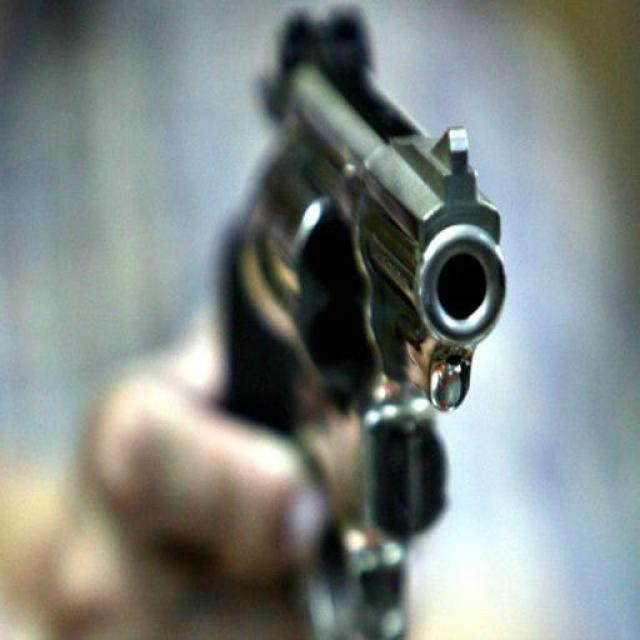pistol: (225, 8, 507, 629)
